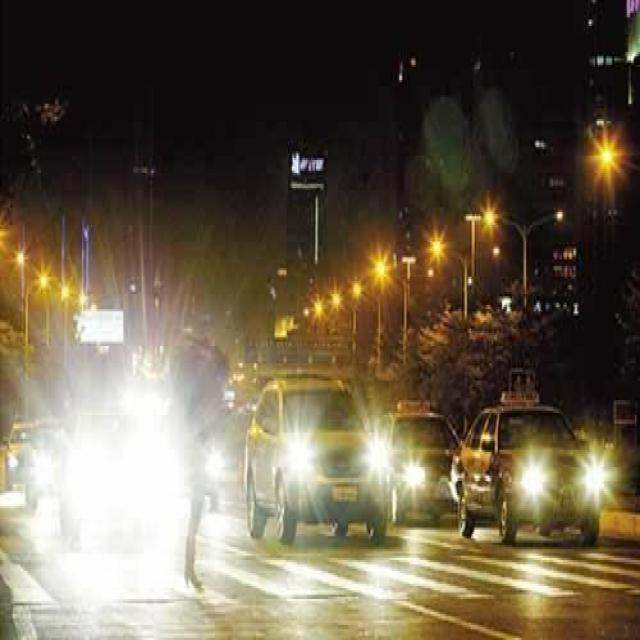other: (58, 405, 194, 584), (12, 238, 133, 362), (279, 426, 318, 488), (578, 447, 615, 509), (591, 122, 621, 190), (32, 455, 52, 549), (519, 445, 548, 504), (476, 189, 505, 244), (426, 232, 456, 280), (205, 424, 226, 480), (363, 440, 390, 482), (401, 460, 426, 499), (367, 250, 389, 283), (308, 289, 326, 319), (349, 274, 362, 303), (330, 286, 342, 312)
